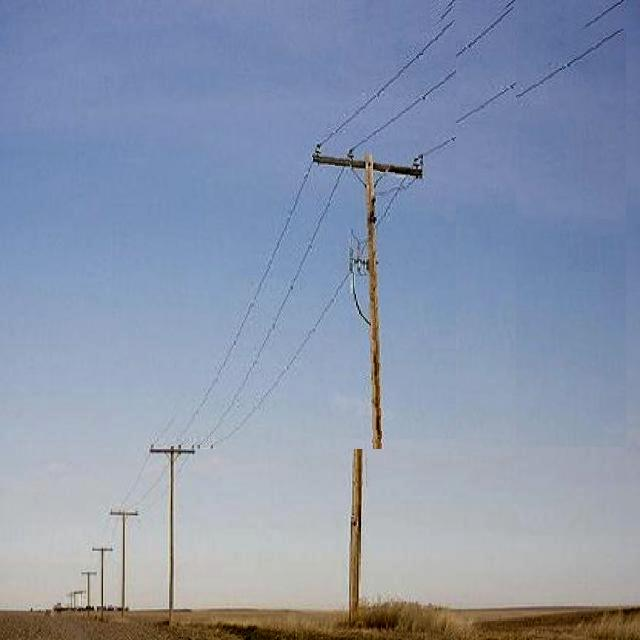crossarm: (306, 135, 418, 160)
pole: (356, 138, 367, 632)
wire: (205, 22, 626, 447), (194, 6, 516, 449), (170, 16, 456, 439)
